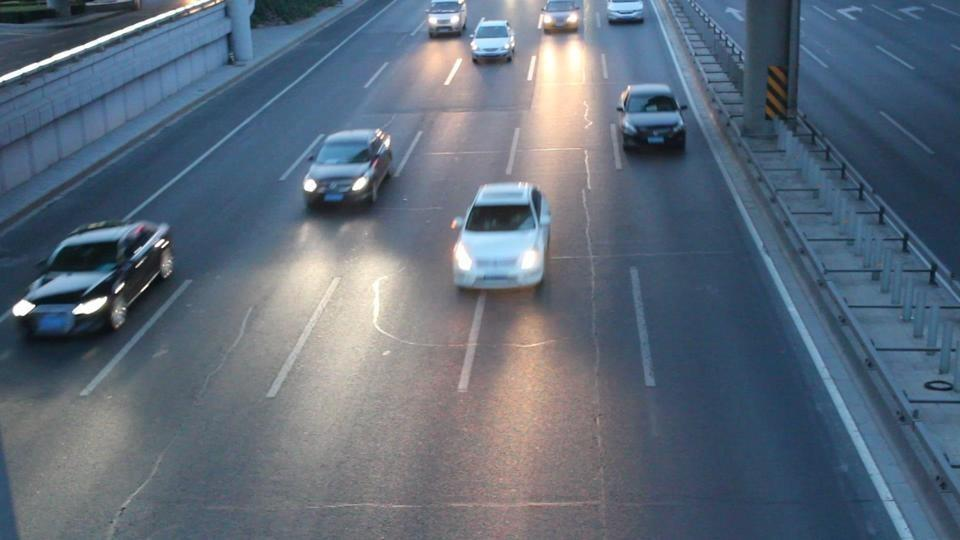car: (12, 220, 175, 342), (450, 180, 552, 292), (300, 128, 395, 210), (615, 83, 687, 153), (468, 18, 517, 65), (426, 0, 468, 38), (538, 0, 583, 34), (606, 0, 646, 26)
